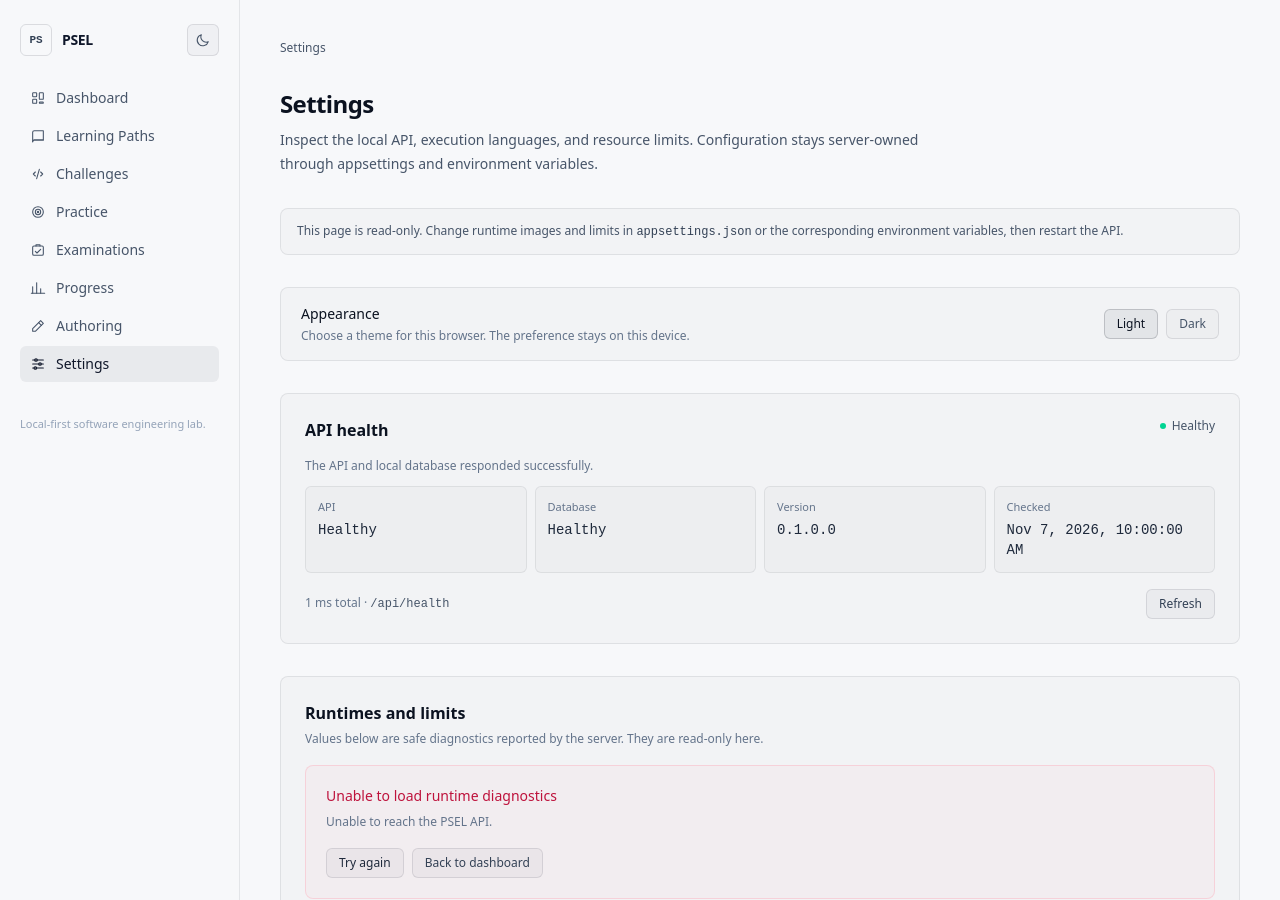
Test: SettingsPage › shows an error state and retries the runtime request
This screenshot has width=1280, height=900.
expect the text "Unable to load runtime diagnostics" is shown: met, box x1=326 y1=786 x2=557 y2=804
Click the button "Try again".
click(365, 862)  # box x1=326 y1=848 x2=404 y2=878
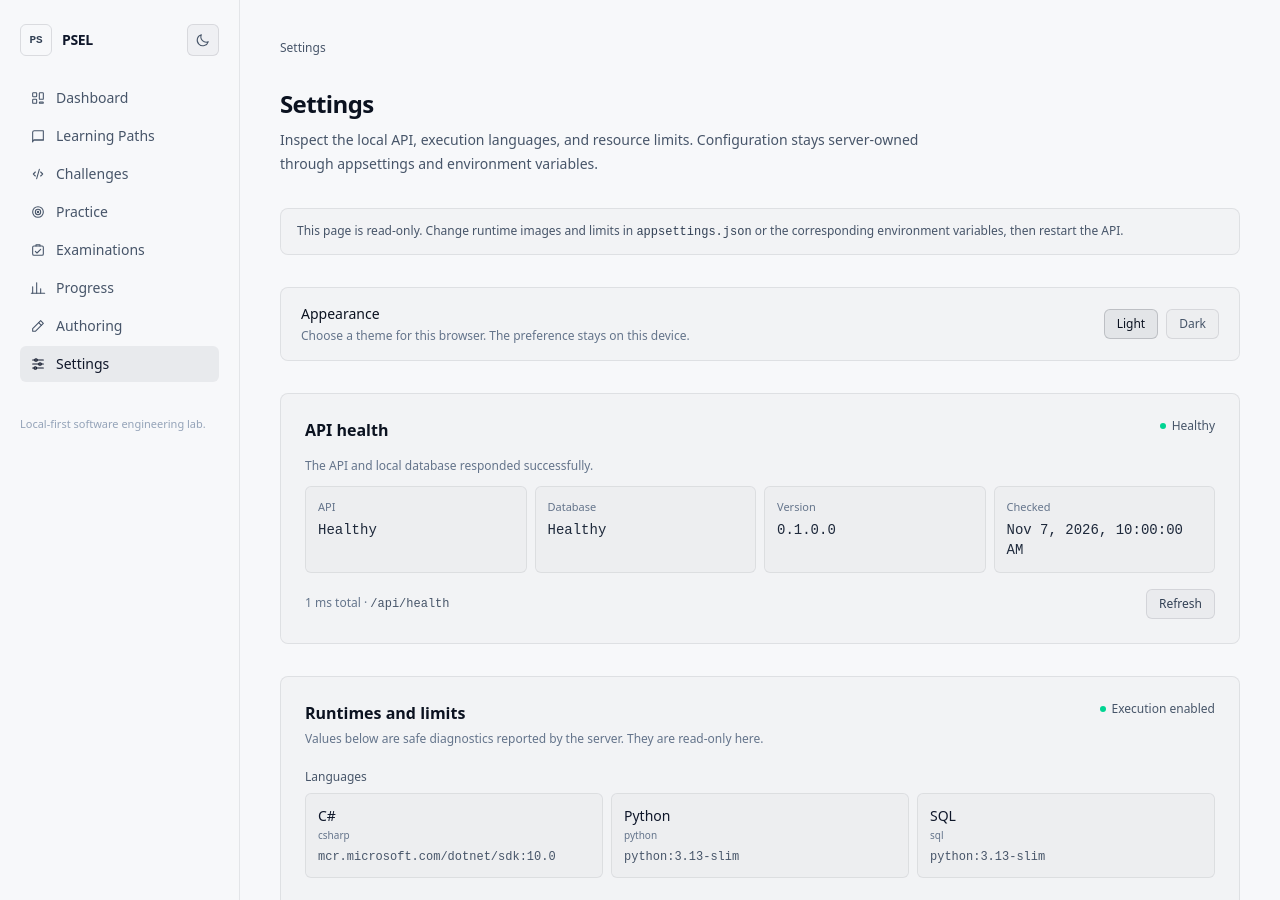
expect the text "Execution enabled" is shown: met, box x1=1100 y1=700 x2=1215 y2=716
